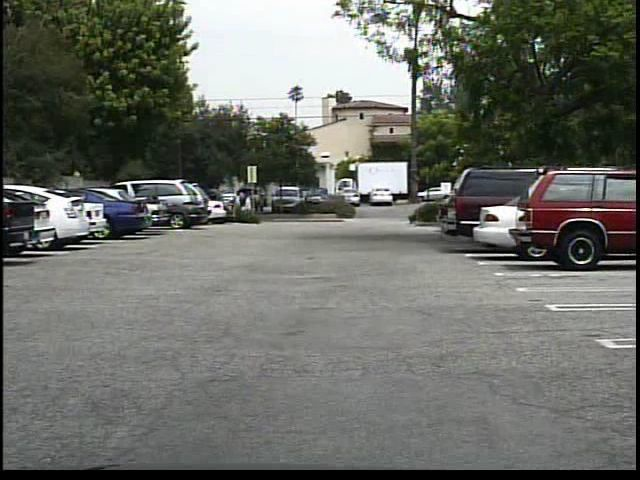person: (228, 188, 243, 220), (242, 192, 258, 219), (240, 188, 251, 219)
